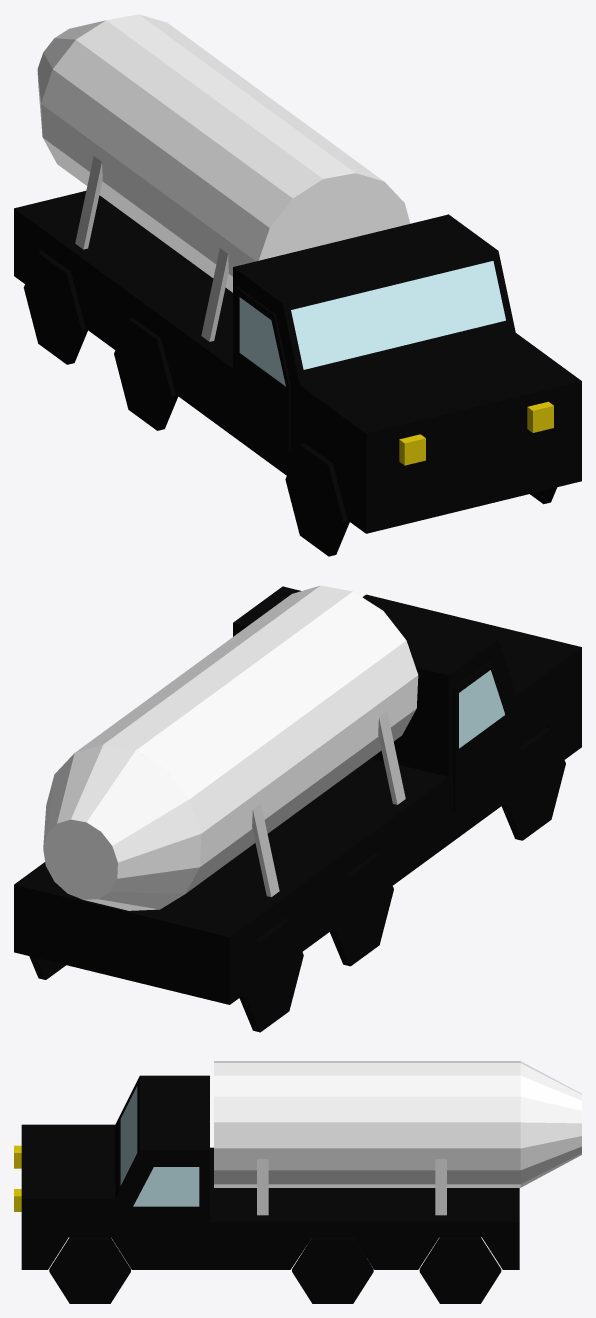
File: camion Cisterna.fbx
3 renders of one model, top to bottom at view 1: azimuth 30°, elevation 25°; view 2: azimuth 150°, elevation 25°; view 3: azimuth 270°, elevation 25°, orthographic. The views are drawn at different scales.
Parts seen in each view (by area): view 1: Cube, Cylinder, Cube.010, Cylinder.002, Cylinder.006, Cylinder.003, Cube.004, Cube.008, Cube.002, Cube.009, Cube.007; view 2: Cylinder, Cube, Cylinder.006, Cylinder.002, Cylinder.003, Cube.004, Cube.008, Cube.009, Cube.007; view 3: Cylinder, Cube, Cylinder.005, Cylinder.004, Cylinder.001, Cube.003, Cube.006, Cube.010, Cube.001, Cube.005, Cube.002.
Part boxes in pixels (box(x1,y1,x2,y2)): Cube: box(14, 191, 581, 533); Cylinder: box(37, 14, 410, 292); Cube.010: box(291, 261, 505, 369); Cylinder.002: box(285, 443, 349, 556); Cylinder.006: box(23, 251, 87, 364); Cylinder.003: box(114, 318, 178, 430); Cube.004: box(235, 287, 290, 449); Cube.008: box(239, 297, 285, 386); Cube.002: box(399, 401, 553, 465); Cube.009: box(201, 248, 228, 341); Cube.007: box(75, 156, 102, 249); Cylinder: box(43, 585, 418, 910); Cube: box(14, 586, 581, 1004); Cylinder.006: box(239, 919, 303, 1032); Cylinder.002: box(501, 727, 565, 840); Cylinder.003: box(330, 853, 393, 966); Cube.004: box(453, 660, 508, 812); Cube.008: box(459, 670, 504, 748); Cube.009: box(378, 711, 405, 804); Cube.007: box(252, 803, 279, 897); Cylinder: box(214, 1061, 581, 1187); Cube: box(21, 1075, 519, 1269); Cylinder.005: box(419, 1237, 501, 1303); Cylinder.004: box(49, 1237, 130, 1303); Cylinder.001: box(292, 1237, 373, 1303); Cube.003: box(129, 1161, 203, 1249); Cube.006: box(133, 1167, 199, 1206); Cube.010: box(120, 1086, 137, 1185); Cube.001: box(257, 1159, 268, 1215); Cube.005: box(435, 1159, 446, 1215); Cube.002: box(14, 1145, 21, 1211).
Bounding box in the file's own units: 220 × 264 × 689.
